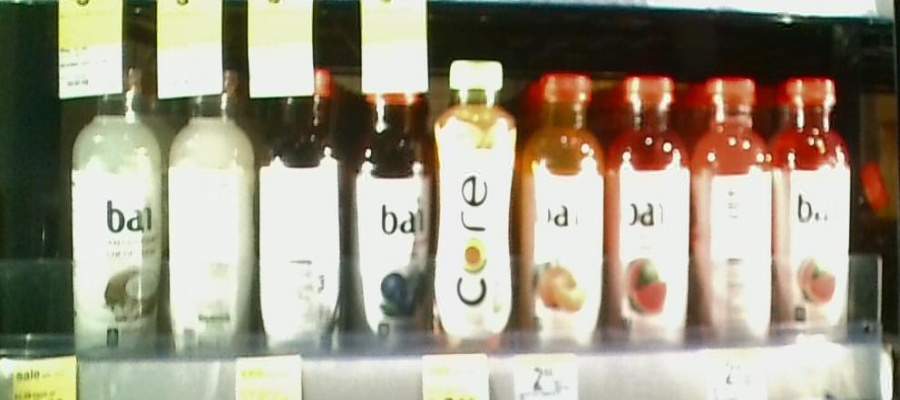bottle: (66, 65, 163, 361), (163, 71, 256, 366), (262, 55, 347, 356), (433, 55, 518, 350), (522, 71, 606, 353), (608, 73, 691, 354), (695, 73, 776, 352), (353, 58, 429, 353), (777, 77, 852, 345)
